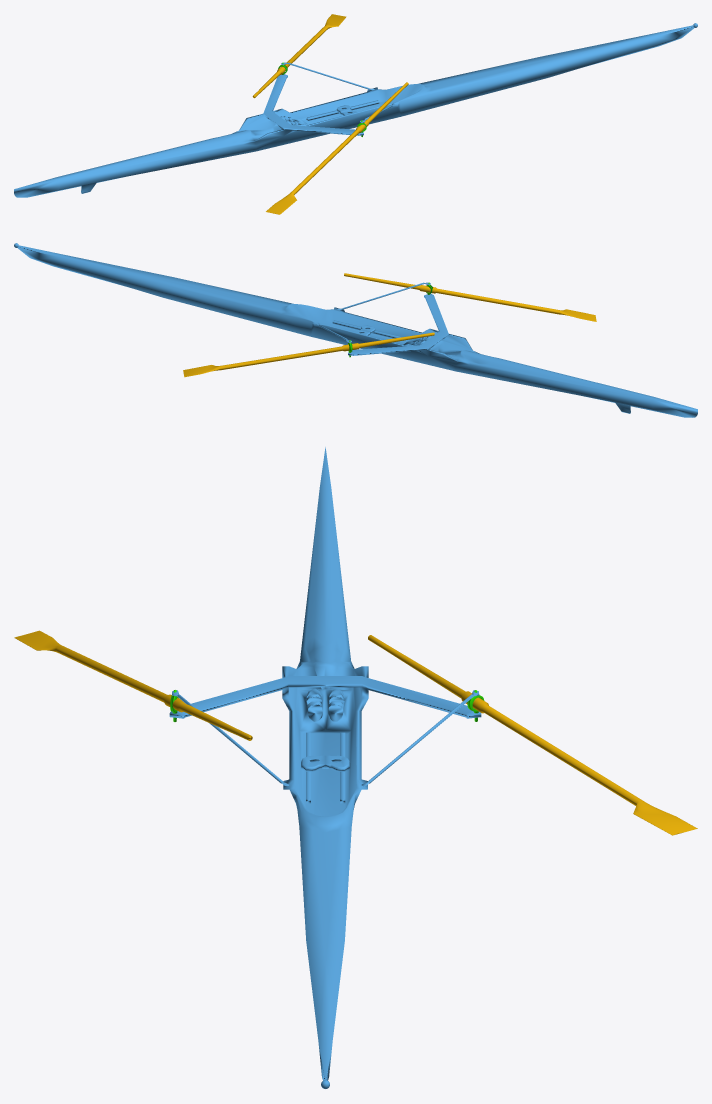
The model's file is aviron_animation5.glb.
3 renders of one model, top to bottom at view 1: azimuth 30°, elevation 25°; view 2: azimuth 150°, elevation 25°; view 3: azimuth 270°, elevation 25°, orthographic. The views are drawn at different scales.
Visible parts, largest first — view 1: bateau, aviron_Gauche, aviron_Droit; view 2: bateau, aviron_Droit, aviron_Gauche; view 3: bateau, aviron_Droit, aviron_Gauche.
Part boxes in pixels (<box>): bateau: <box>14,23,697,197</box>; aviron_Gauche: <box>266,82,408,214</box>; aviron_Droit: <box>252,14,346,98</box>; bateau: <box>14,243,697,417</box>; aviron_Droit: <box>183,332,434,377</box>; aviron_Gauche: <box>344,273,596,321</box>; bateau: <box>169,447,481,1088</box>; aviron_Droit: <box>368,635,697,835</box>; aviron_Gauche: <box>14,630,252,740</box>.
Bounding box in the file's own units: 4.91 × 0.3545 × 2.23.
